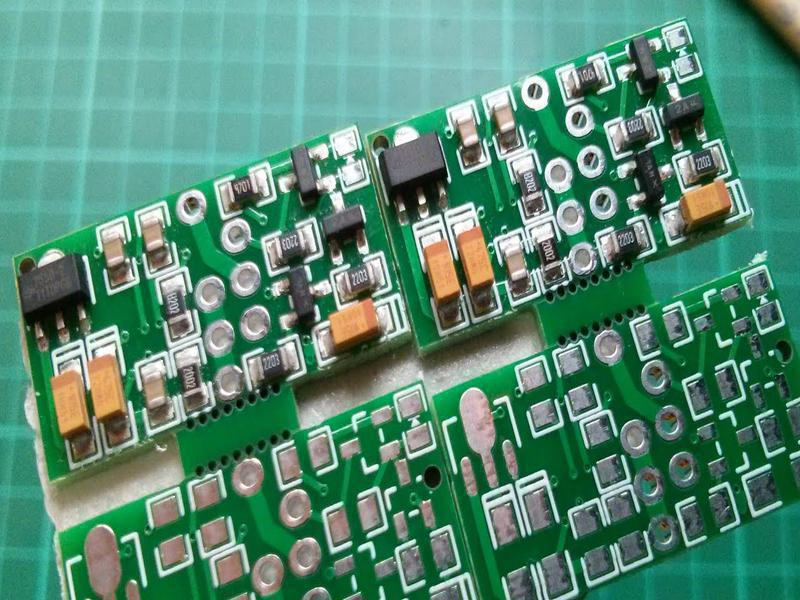SMD capacitor: (134, 362, 173, 417), (97, 229, 137, 280), (452, 109, 483, 151), (137, 213, 165, 258), (492, 98, 518, 138), (506, 242, 528, 279)
SMD resistor: (159, 280, 197, 331), (170, 355, 210, 400), (269, 230, 307, 261), (226, 174, 261, 206)
